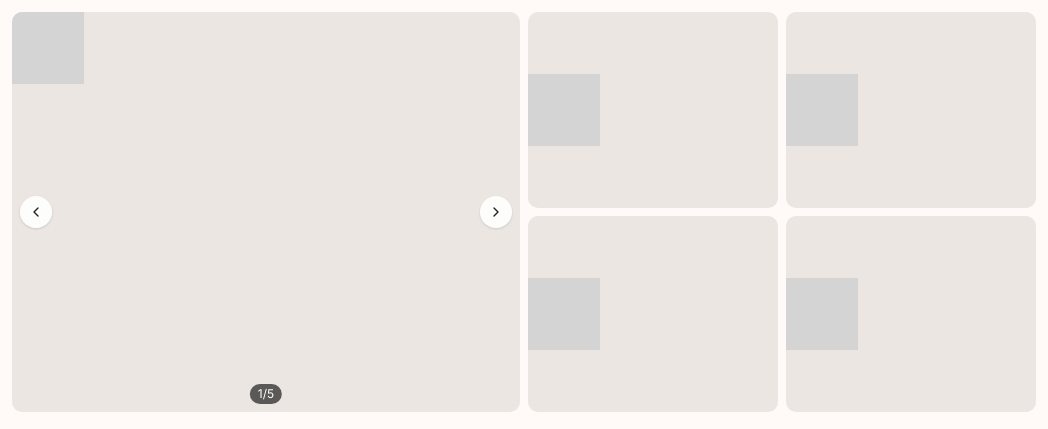
Carousel › avec plusieurs images › passe à l'image suivante
The image size is (1048, 429).
Click the button named "Photo suivante": (496, 212) [480,196,512,228]
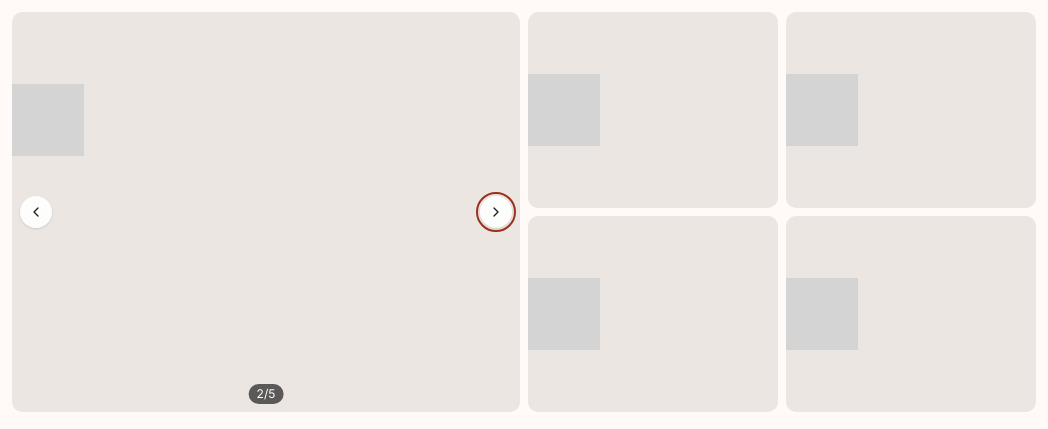
Expected: the text "2/5" is shown, [249,384,283,404]
